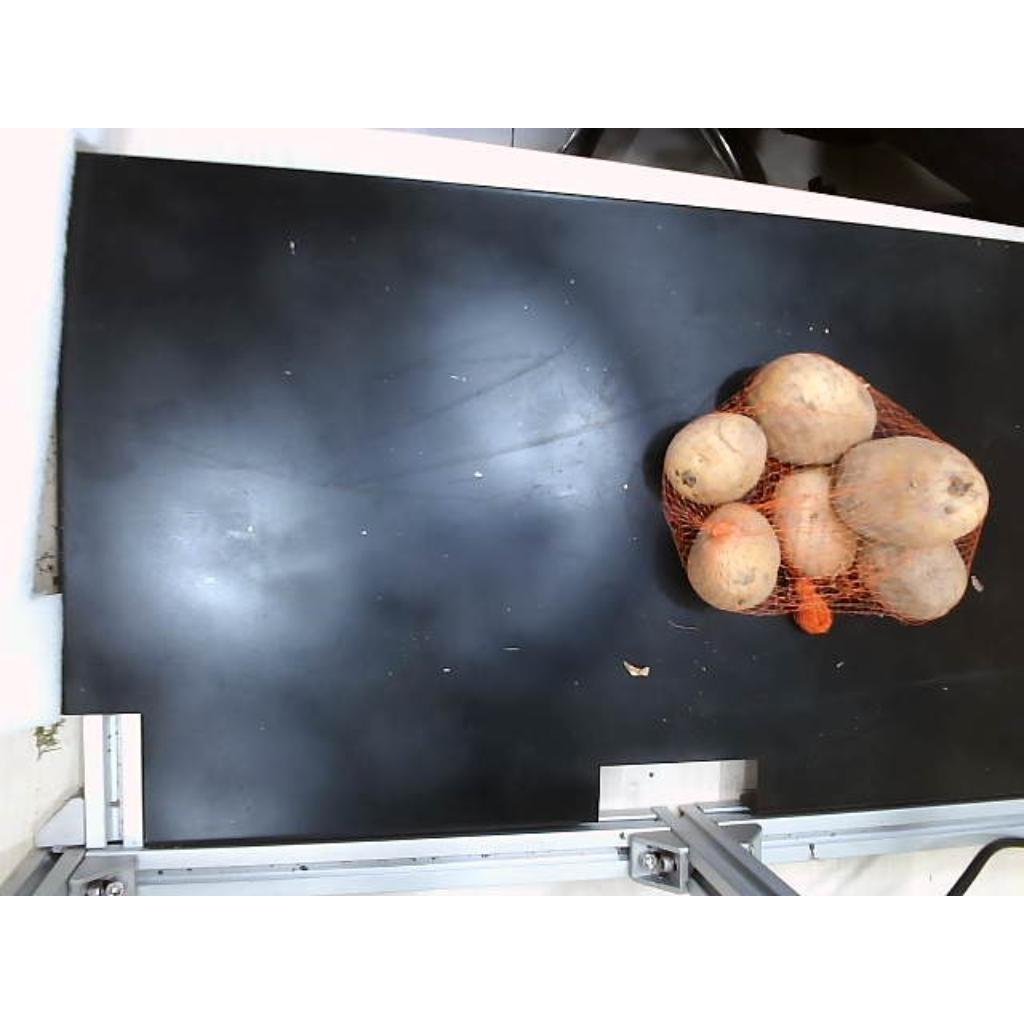potato: (838, 436, 988, 547), (748, 354, 876, 465), (686, 502, 780, 611), (772, 468, 858, 579), (664, 414, 764, 505), (858, 543, 968, 621)
